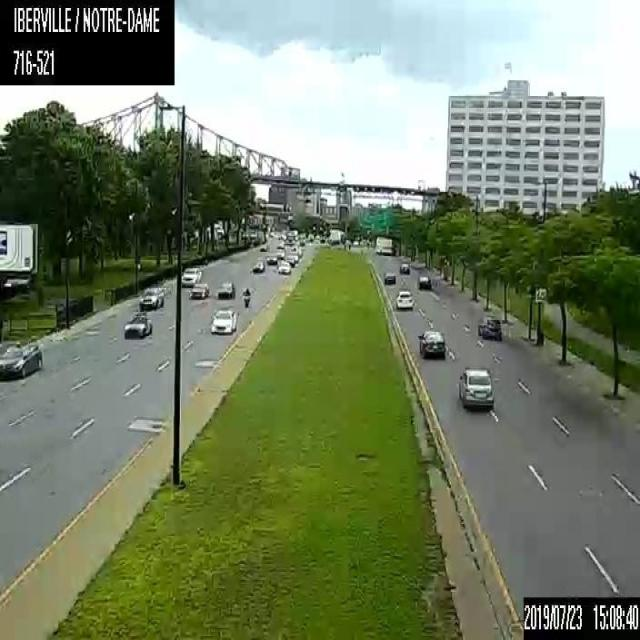vehicle: (0, 336, 45, 378), (457, 367, 494, 408), (418, 326, 446, 358), (208, 306, 237, 334), (123, 311, 151, 339), (476, 313, 502, 340), (139, 286, 163, 308), (394, 290, 414, 310), (216, 278, 236, 298), (180, 266, 200, 285), (190, 282, 210, 298), (375, 236, 391, 254), (417, 274, 431, 290), (252, 258, 265, 272), (242, 285, 250, 307), (276, 260, 290, 272), (276, 243, 285, 259), (290, 243, 298, 261), (384, 271, 395, 284), (399, 262, 410, 274), (266, 252, 276, 264), (259, 241, 269, 251), (286, 256, 294, 266)
